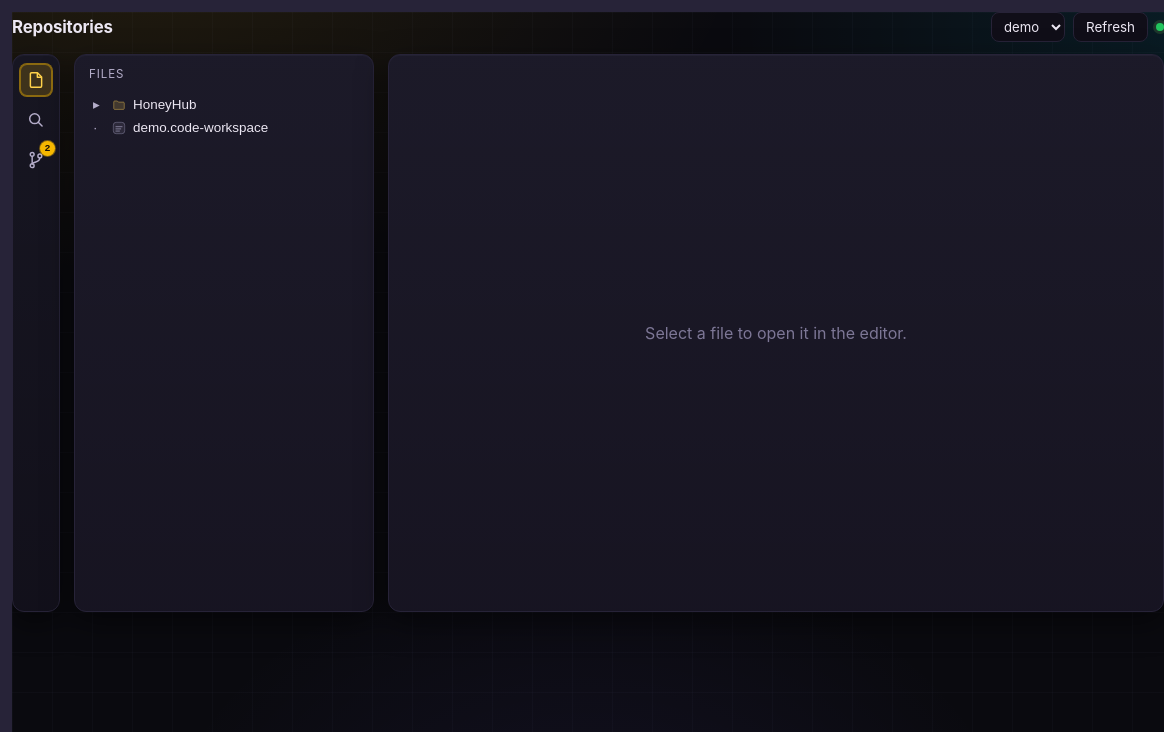
Test: RepositoriesView › shows the empty-diff hint when there are no file versions and the patch is blank
Click the button named "Source control" at (36, 160), box x1=19 y1=143 x2=53 y2=177
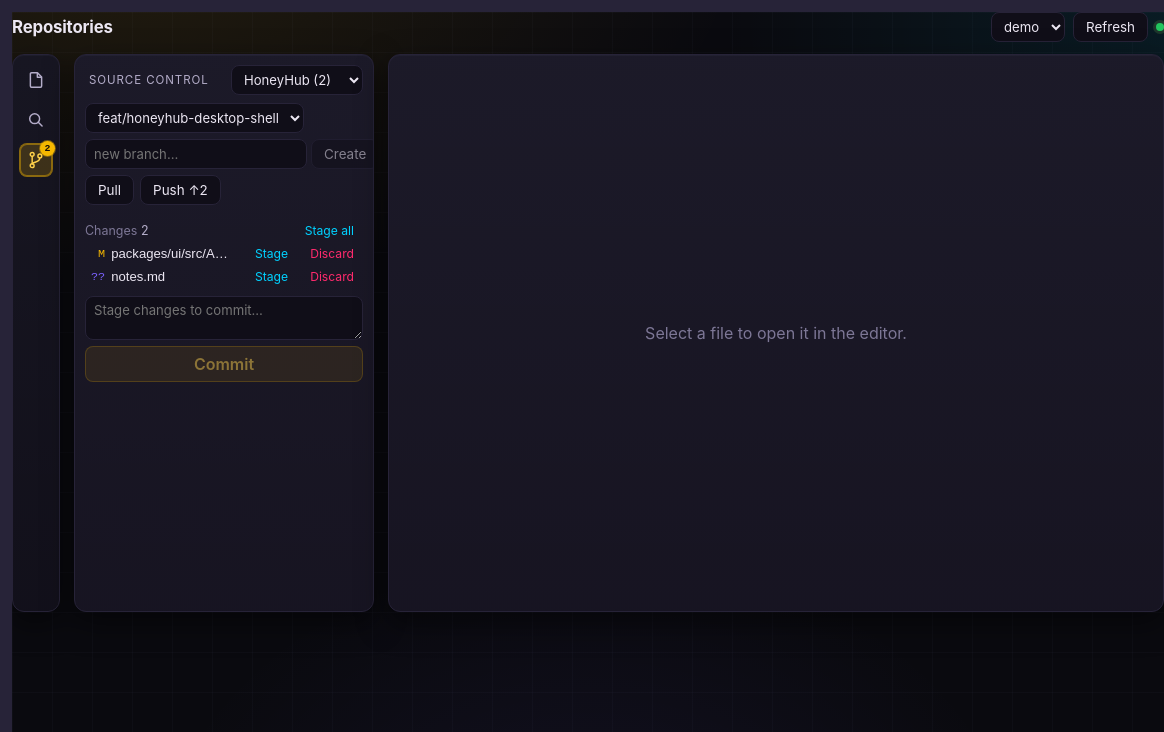
Click the text "packages/ui/src/App.tsx" at (173, 254), box x1=111 y1=246 x2=234 y2=261
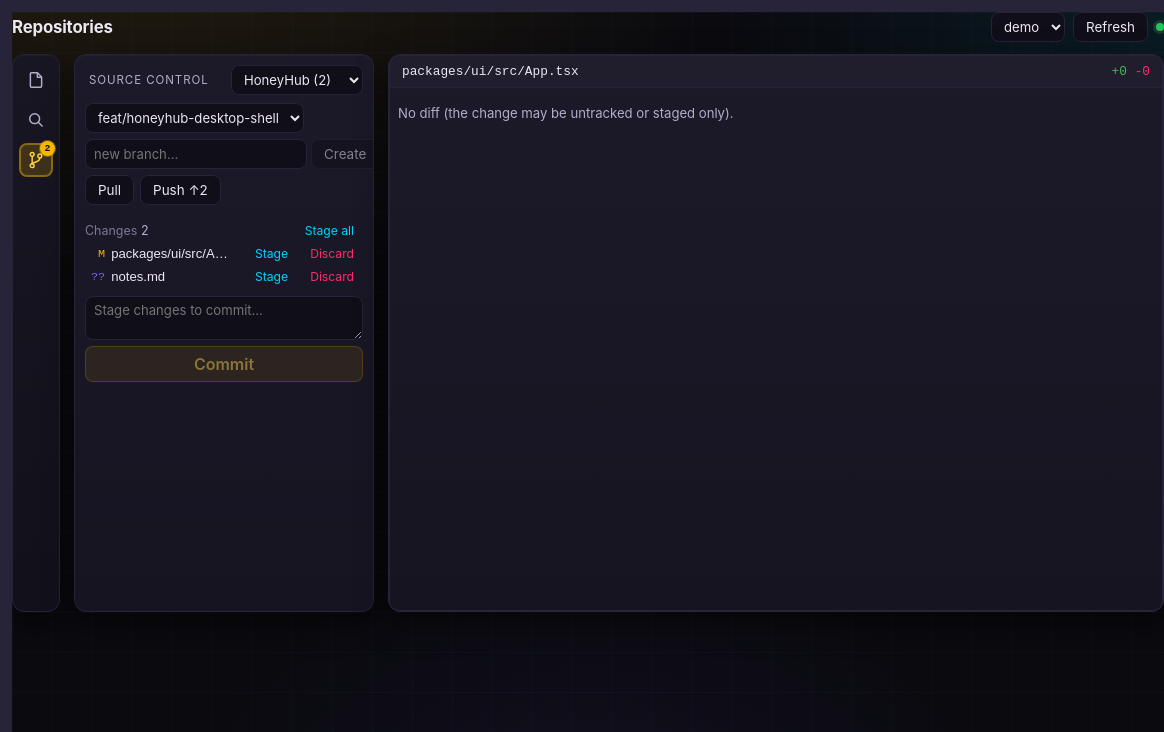
Now the text "No diff (the change may be untracked or staged only)." is shown, box x1=398 y1=105 x2=734 y2=121
